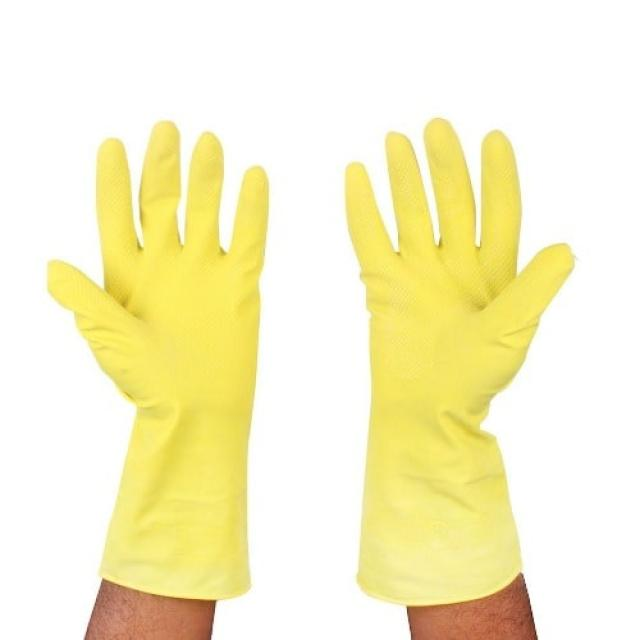gloves: (340, 114, 578, 609), (45, 118, 267, 599)
